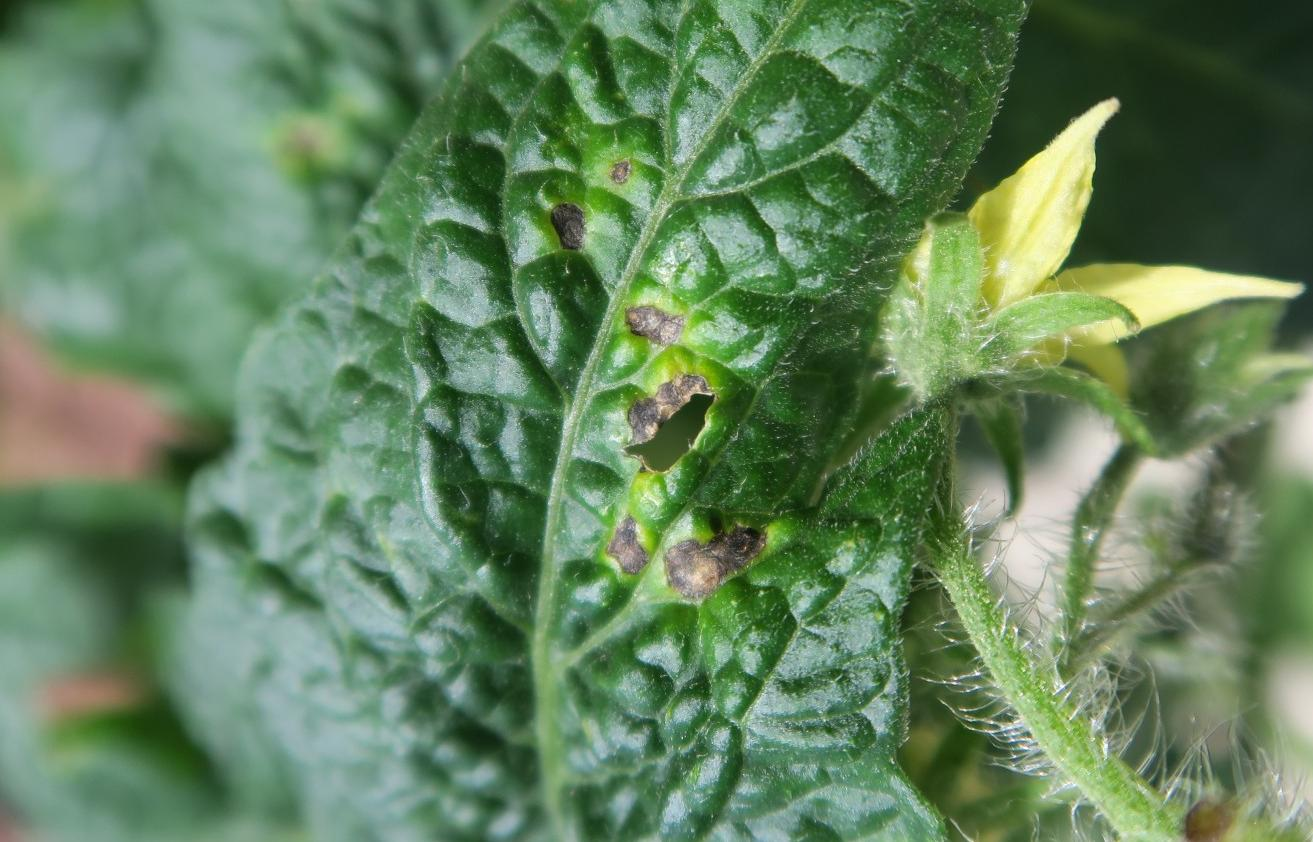Tomato leaf bacterial spot: (233, 0, 1166, 842)
